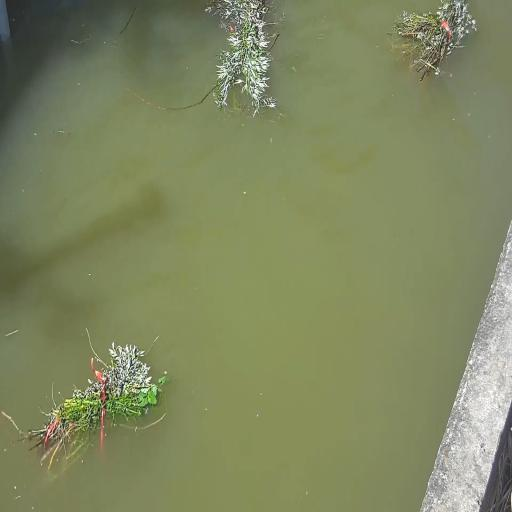twig: (19, 334, 168, 472), (128, 4, 276, 116), (390, 1, 477, 83)
